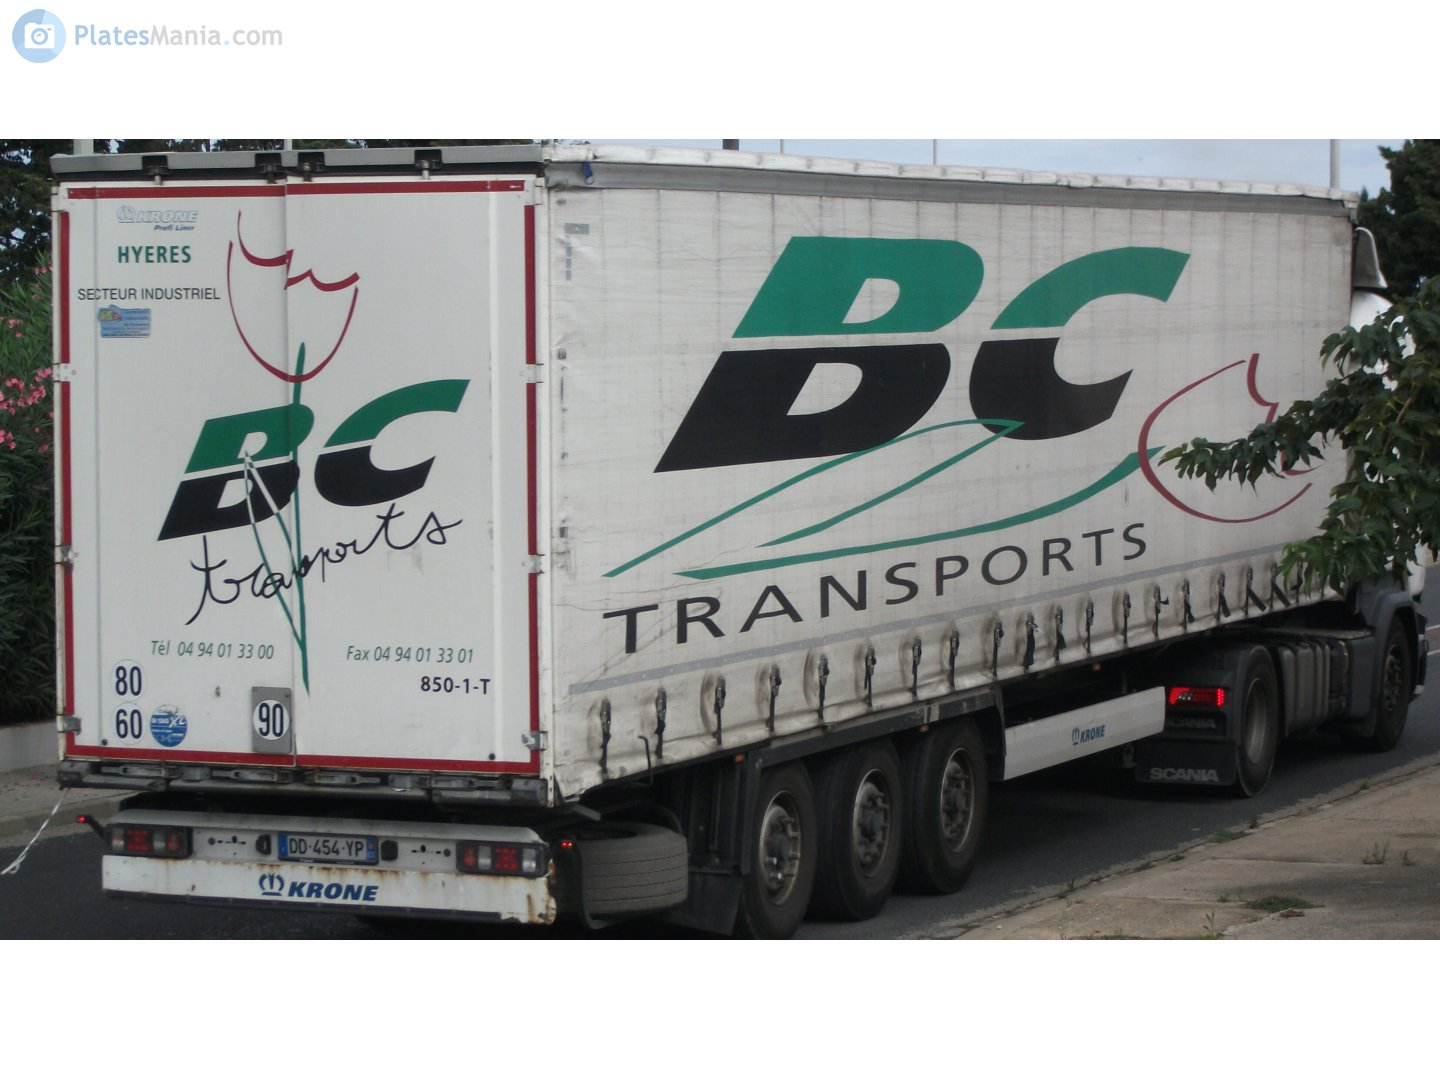licence plate: (275, 830, 382, 867)
